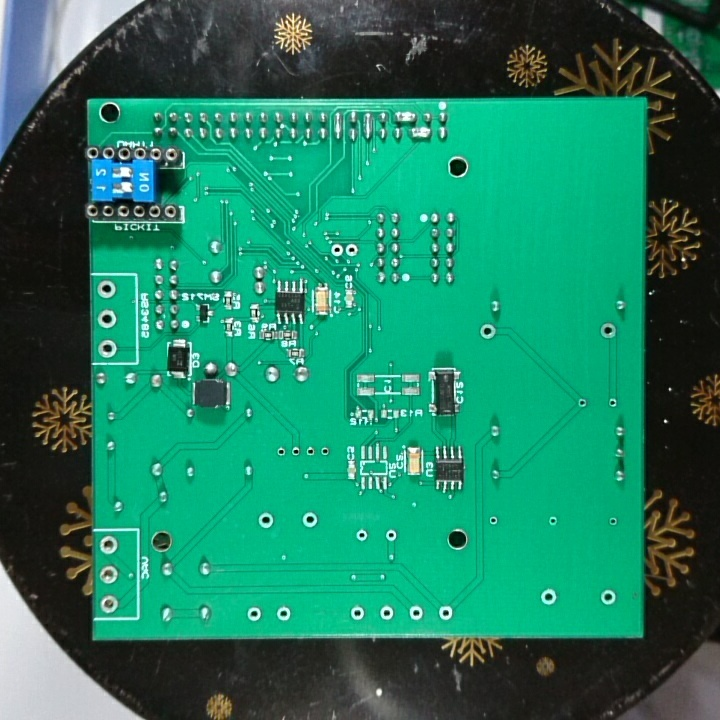F: (95, 307, 120, 332), (97, 534, 121, 558), (97, 593, 122, 616), (97, 336, 120, 361), (94, 277, 119, 300), (537, 584, 559, 608), (597, 318, 619, 341), (99, 563, 121, 586), (405, 601, 427, 623), (256, 509, 278, 531), (598, 586, 619, 609), (244, 603, 265, 626), (477, 321, 499, 342), (299, 509, 321, 530), (347, 603, 368, 624), (436, 603, 457, 623), (274, 603, 293, 624), (382, 526, 400, 546), (327, 240, 345, 260), (377, 603, 395, 622), (343, 239, 359, 259), (353, 526, 370, 544), (574, 395, 590, 413), (288, 442, 304, 460), (545, 511, 560, 530), (605, 394, 620, 411), (486, 512, 501, 529), (606, 512, 620, 530), (317, 443, 332, 459), (274, 443, 288, 459), (304, 443, 317, 460)
P: (406, 123, 435, 144), (391, 107, 419, 125), (361, 109, 376, 142), (331, 108, 345, 142)
